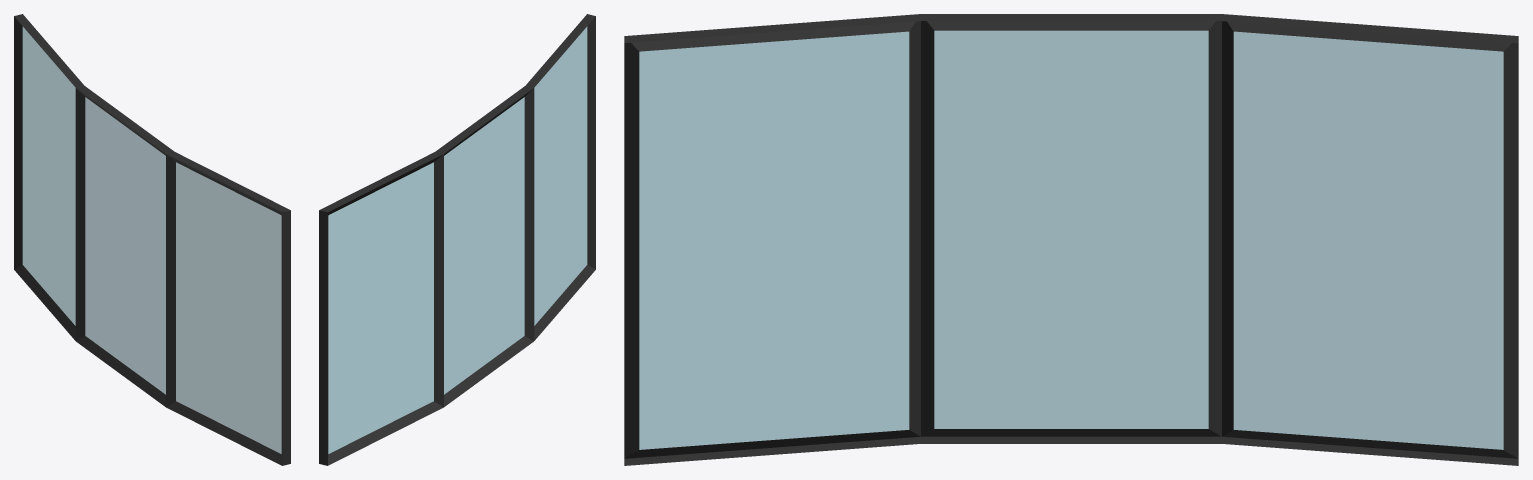
Rendered from ventanalC.DAE.
3 renders of one model, left to right at view 1: azimuth 30°, elevation 25°; view 2: azimuth 150°, elevation 25°; view 3: azimuth 270°, elevation 25°, orthographic. The views are drawn at different scales.
Parts seen in each view (by area): view 1: ventanalC; view 2: ventanalC; view 3: ventanalC.
Part boxes in pixels (x1,y1,x2,y2): ventanalC: (14, 14, 290, 465); ventanalC: (319, 14, 595, 465); ventanalC: (624, 14, 1518, 465).
Bounding box in the file's own units: 0.4006 × 5.18 × 2.7.
